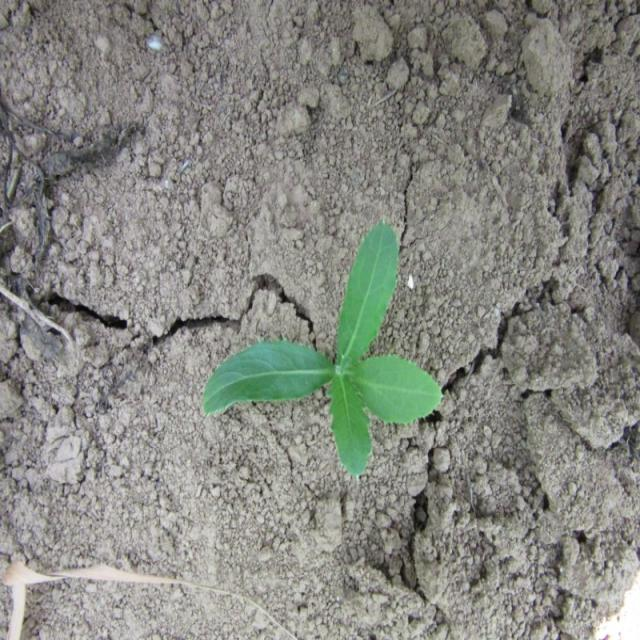field_thistle: (185, 213, 453, 472)
